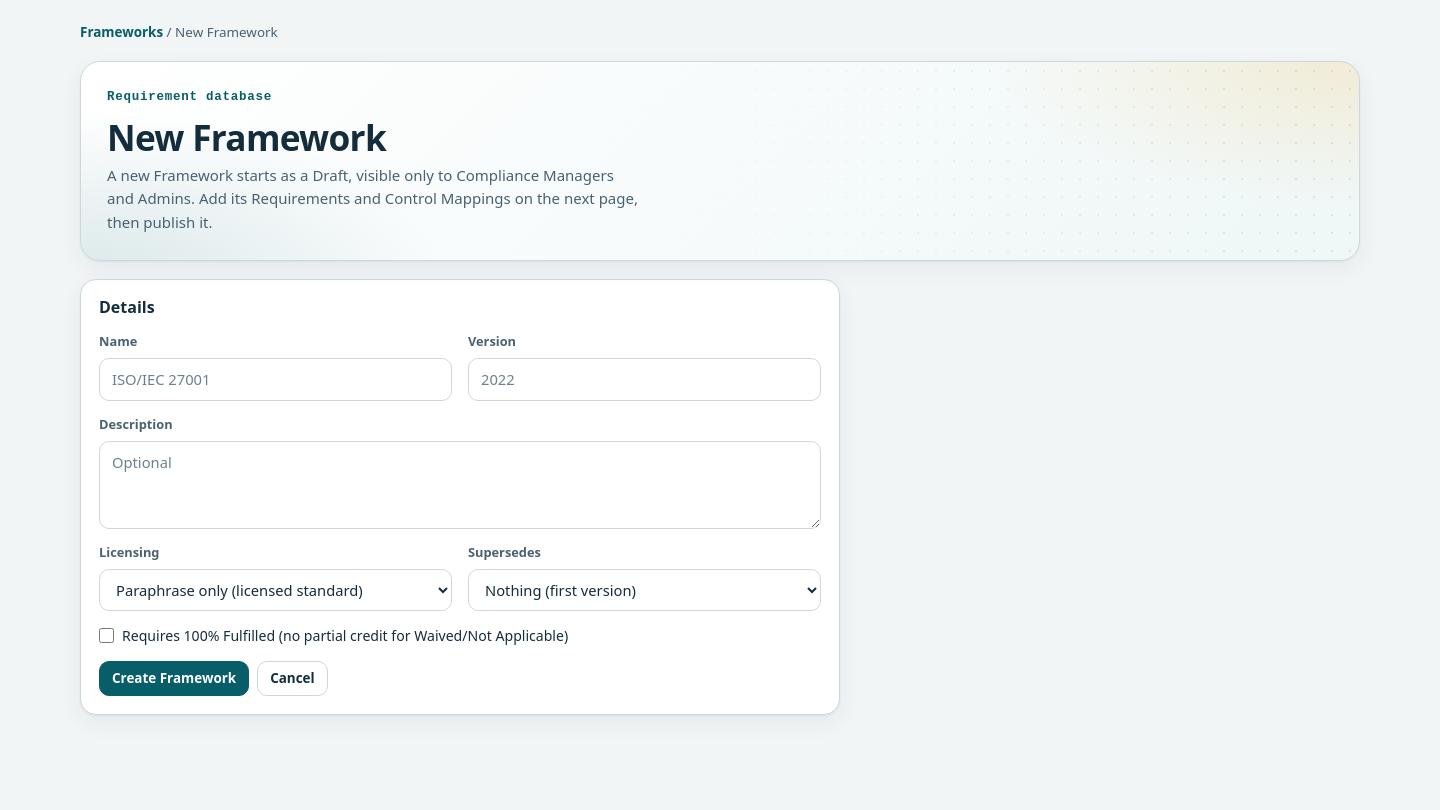
Scenario: the New Framework form › shows a failure when the request itself fails
Type "NIS2" into the field labelled "Name" at (276, 379), box [99,358,452,401]
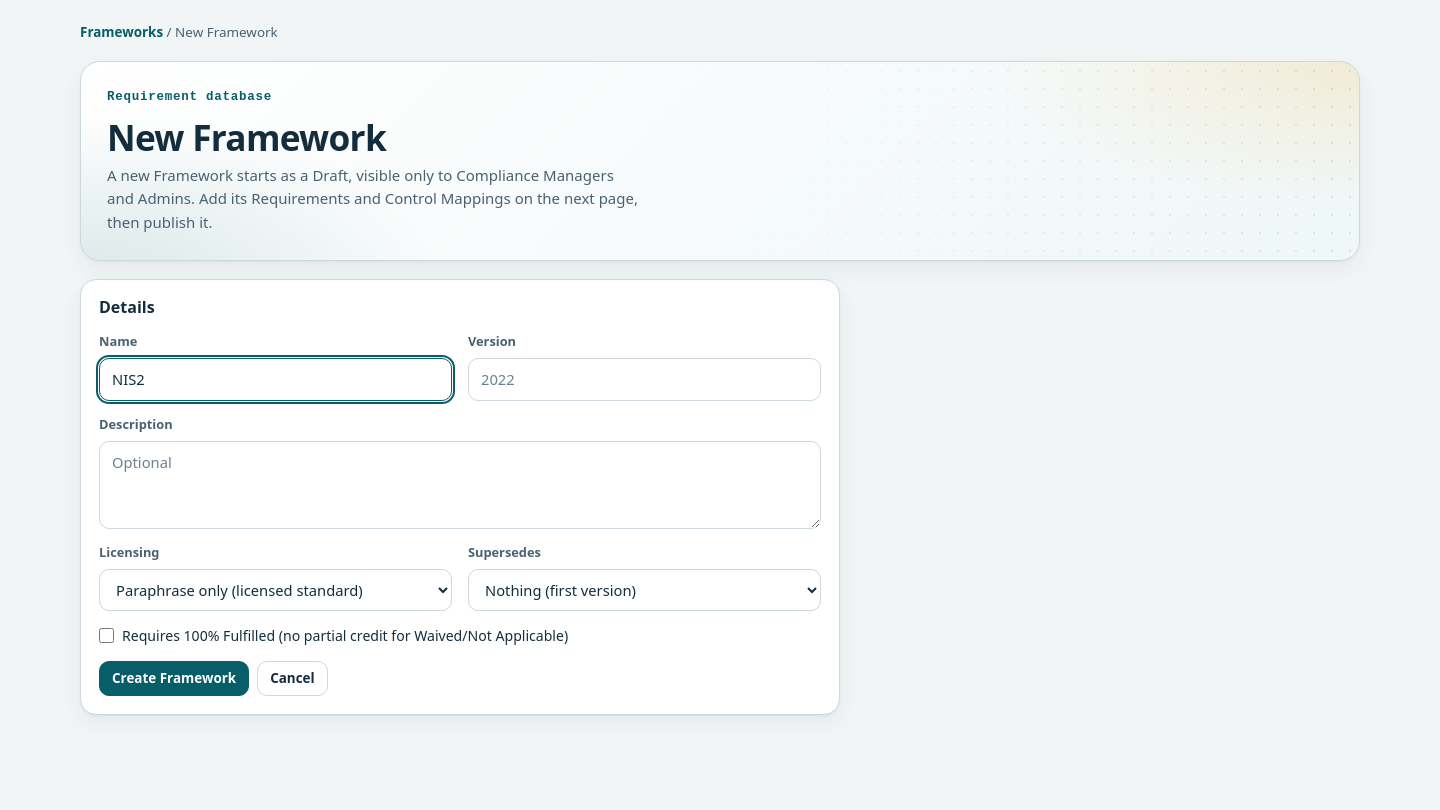
Type "1" into the field labelled "Version" at (644, 379), box [468,358,821,401]
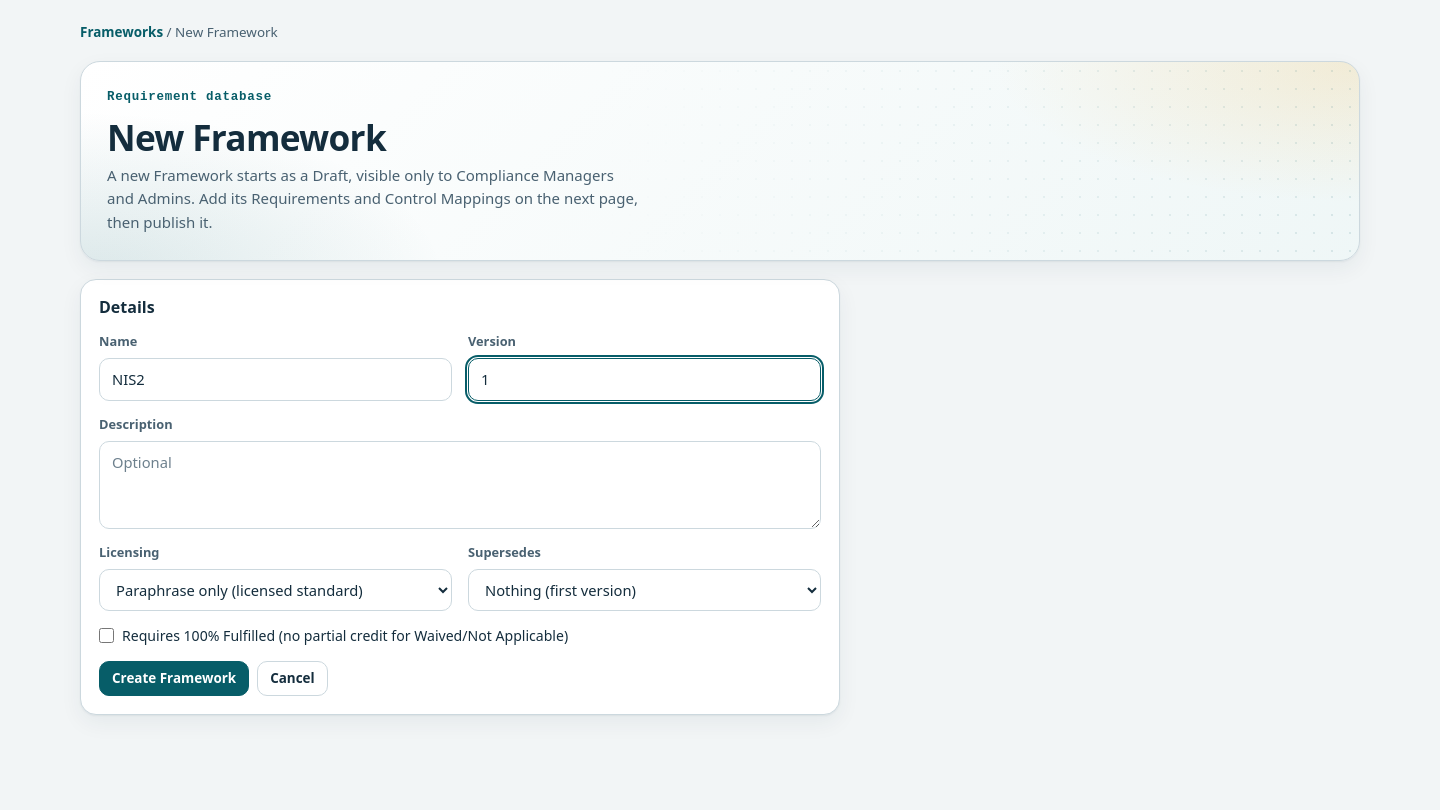
Click the button "Create Framework" at (174, 678), box [99,661,249,696]
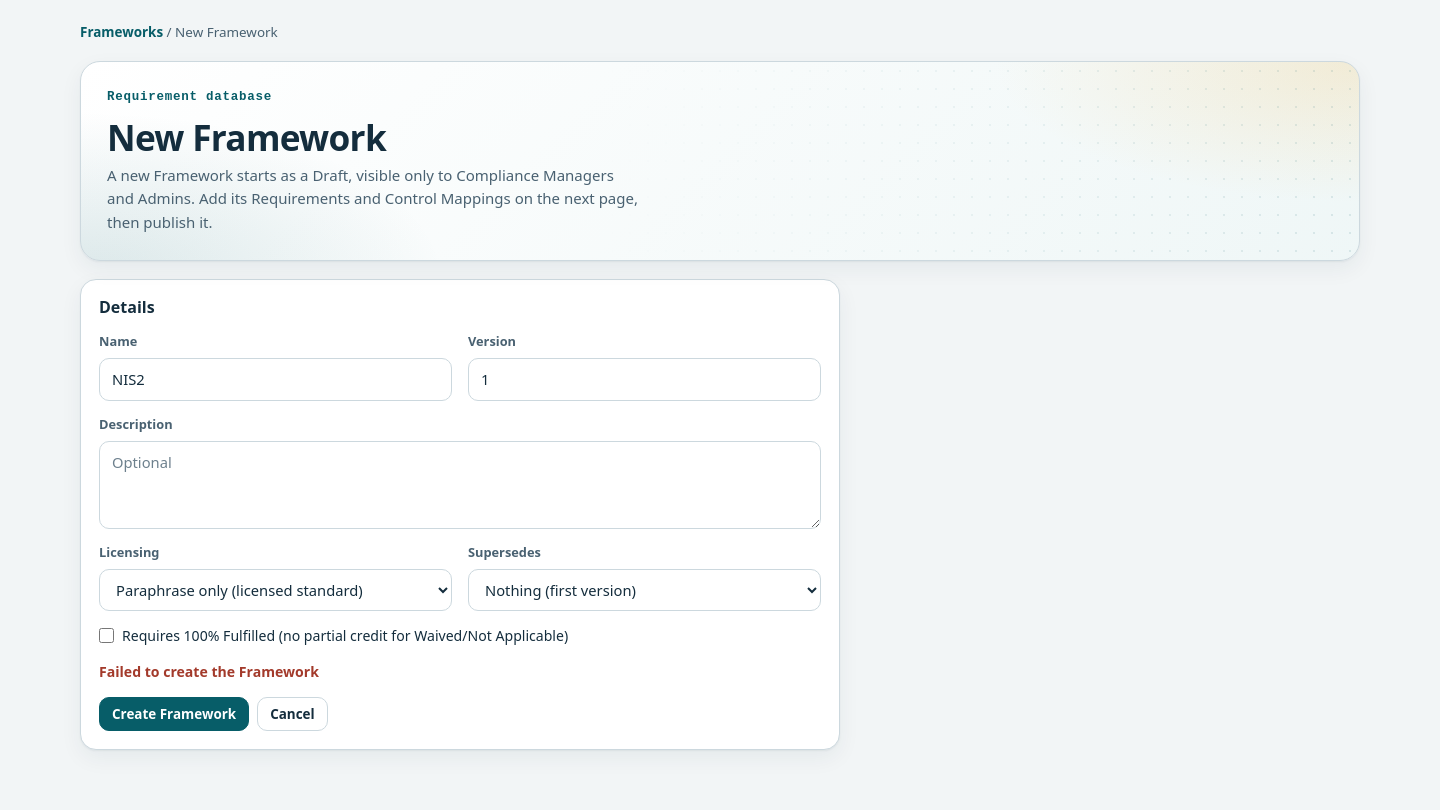
Now the message reads "Failed to create the Framework", box [99,662,319,681]
